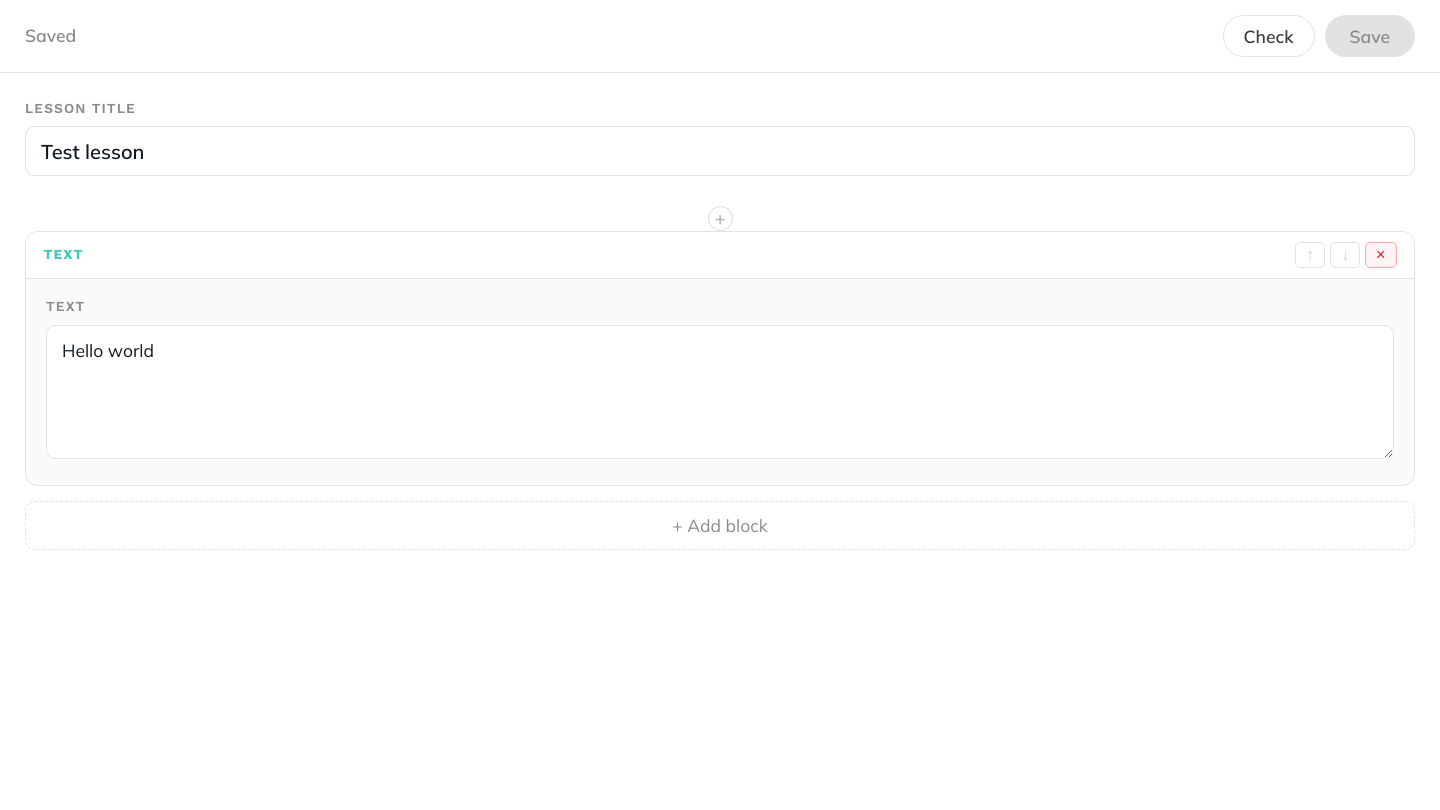
Test: LessonEditor unsaved-changes guard › keeps guarding when the save fails
Replace the text in the field showing "Test lesson" with "Renamed": (720, 151) left=25, top=126, right=1415, bottom=176
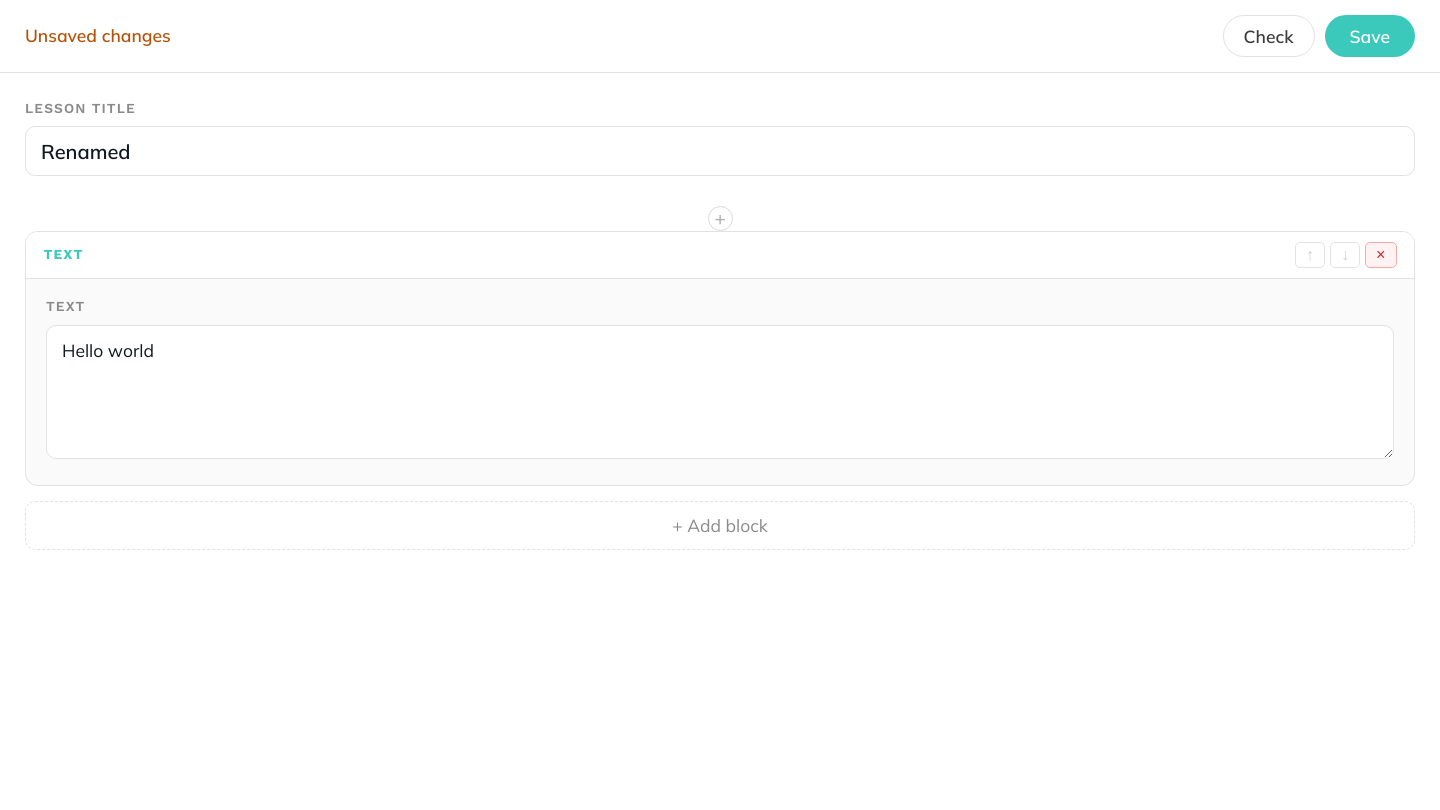
Click the button "Save": click(1370, 36) left=1324, top=15, right=1415, bottom=56
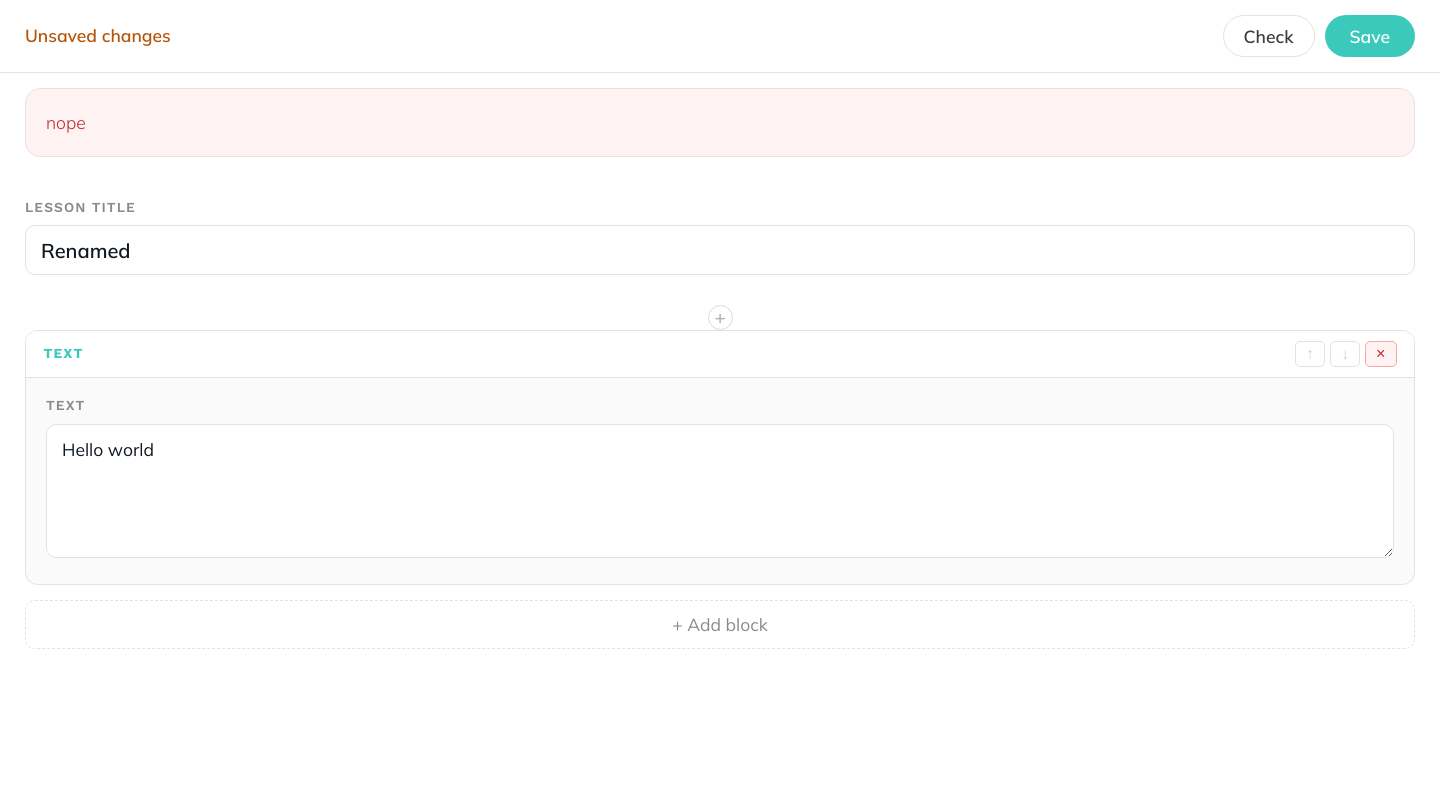
expect the text "nope" is shown: met, box left=25, top=88, right=1415, bottom=157
